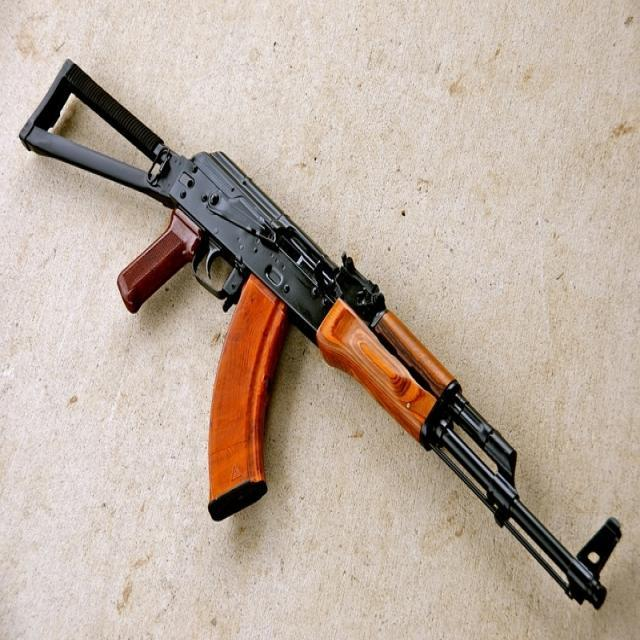ak: (19, 56, 626, 612)
